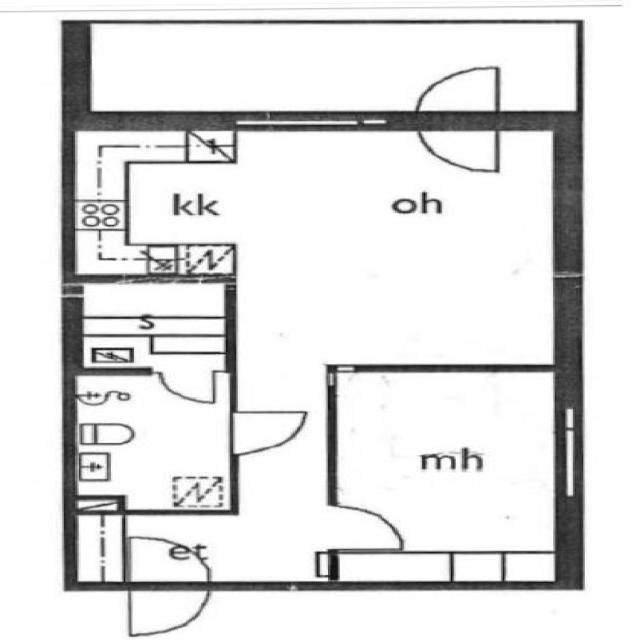door: (402, 61, 508, 119), (118, 578, 220, 638), (218, 404, 314, 458), (319, 497, 408, 552), (151, 366, 225, 406)
window: (319, 358, 365, 392)
zone: (73, 120, 581, 275), (64, 20, 535, 121), (327, 367, 570, 559), (65, 370, 238, 511), (62, 278, 240, 375)
